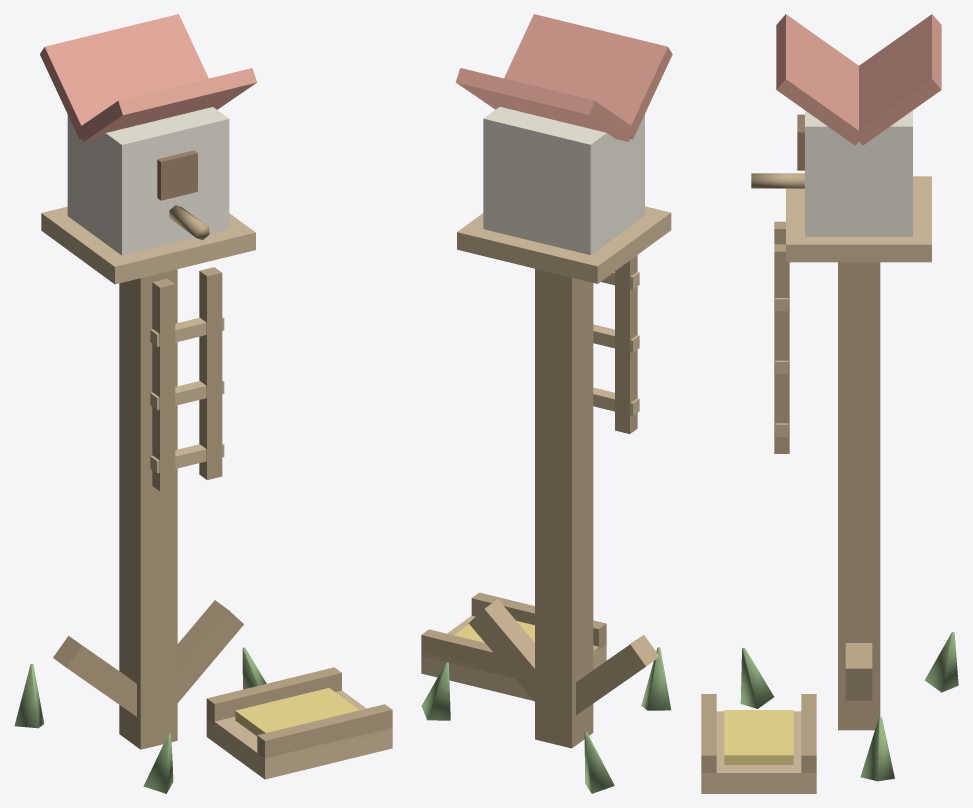
The model's file is birdhouse.fbx.
3 renders of one model, left to right at view 1: azimuth 30°, elevation 25°; view 2: azimuth 150°, elevation 25°; view 3: azimuth 270°, elevation 25°, orthographic.
Visible parts, largest first — view 1: EN_birdhouse; view 2: EN_birdhouse; view 3: EN_birdhouse.
Boxes of the visible parts, bbox=[...] form: EN_birdhouse: bbox=[14, 14, 392, 793]; EN_birdhouse: bbox=[421, 14, 672, 793]; EN_birdhouse: bbox=[701, 14, 958, 793].
Size of the model in its own units: 76.53 by 194 by 66.91.
